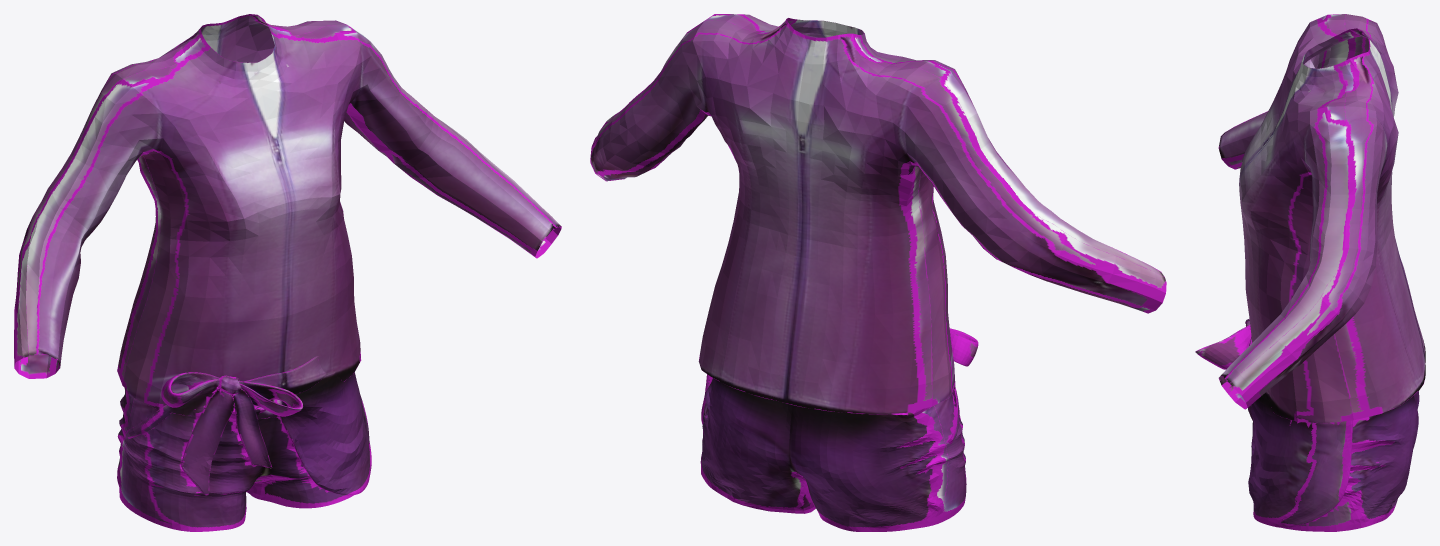
3 views of the same model, side by side, from view 1: azimuth 30°, elevation 25°; view 2: azimuth 150°, elevation 25°; view 3: azimuth 270°, elevation 25° (orthographic). The views are drawn at different scales.
Size of the model in its own units: 1 by 0.8106 by 0.3768.
Materials: 1 (1 with a texture image).
